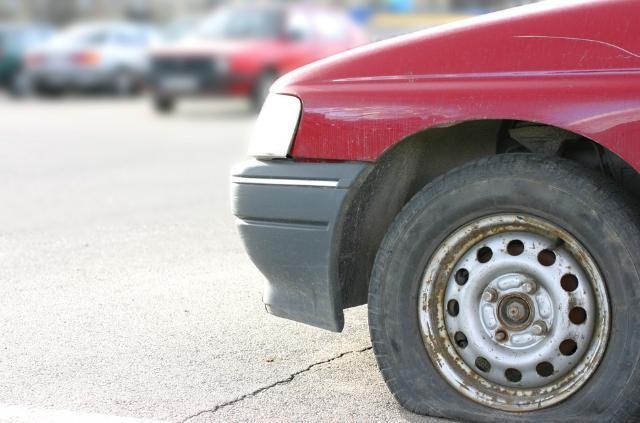Fender: (300, 22, 640, 130)
